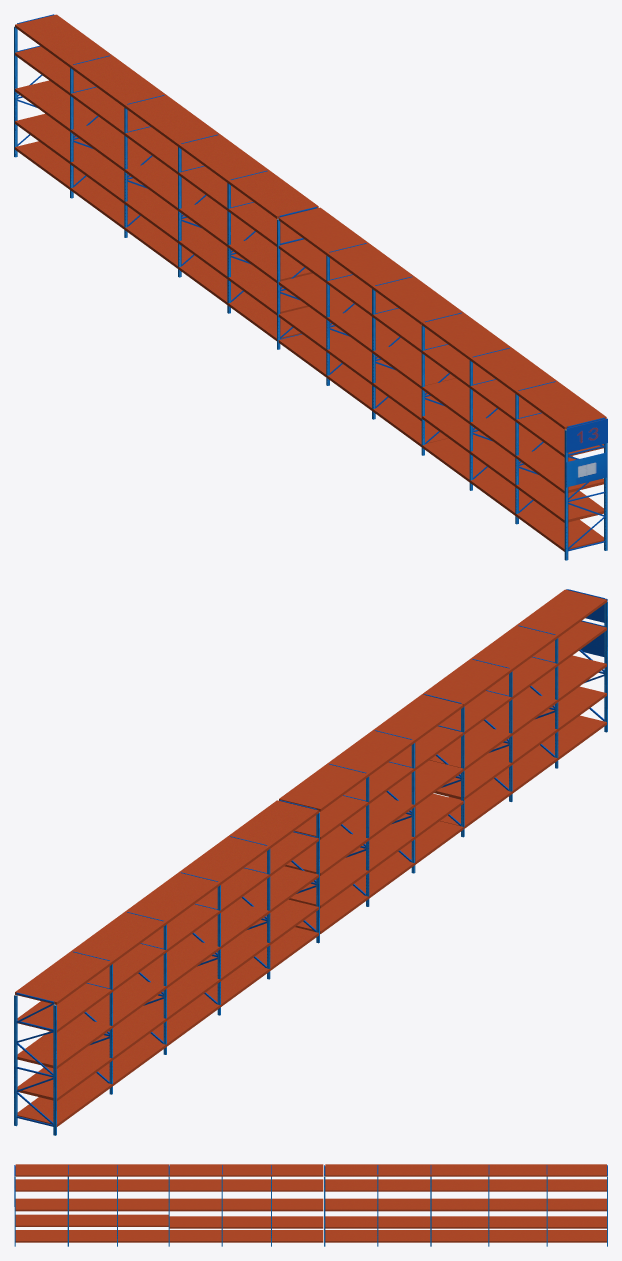
File: Shelf13.FBX
3 renders of one model, top to bottom at view 1: azimuth 30°, elevation 25°; view 2: azimuth 150°, elevation 25°; view 3: azimuth 270°, elevation 25°, orthographic. The views are drawn at different scales.
Visible parts, largest first — view 1: 图形191, Box3738, Box3740; view 2: 图形191; view 3: 图形191.
Boxes of the visible parts, x1,y1,x2,y2 form: 图形191: [14, 14, 607, 560]; Box3738: [566, 452, 607, 487]; Box3740: [566, 418, 607, 452]; 图形191: [14, 589, 607, 1135]; 图形191: [14, 1164, 607, 1246].
Bounding box in the file's own units: 0.8115 × 18.56 × 2.47.
